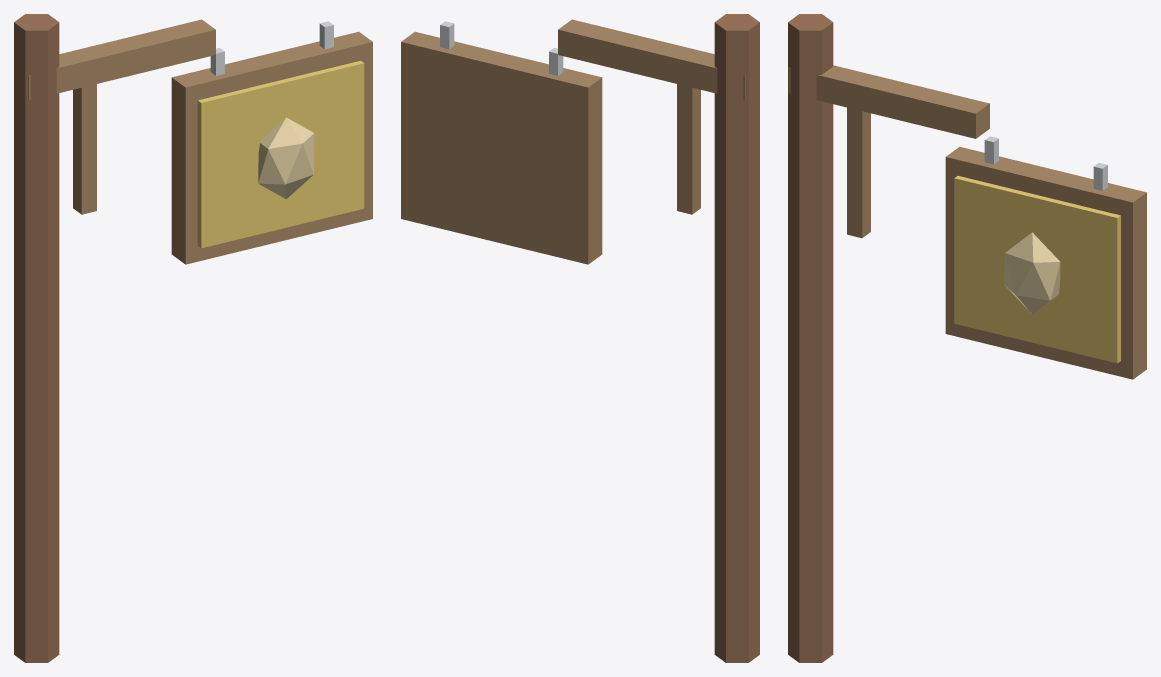
File: inn_sign.glb
3 renders of one model, left to right at view 1: azimuth 30°, elevation 25°; view 2: azimuth 150°, elevation 25°; view 3: azimuth 330°, elevation 25°, orthographic.
Parts seen in each view (by area): view 1: post.001, rim, board, arm.001, mug, brace; view 2: board, post.001, arm.001, brace; view 3: post.001, rim, board, arm.001, mug, brace.
Boxes of the visible parts, x1,y1,x2,y2 form: post.001: [14, 14, 59, 662]; rim: [197, 60, 364, 248]; board: [171, 31, 372, 264]; arm.001: [28, 19, 215, 100]; mug: [258, 117, 314, 199]; brace: [73, 84, 96, 214]; board: [401, 31, 602, 264]; post.001: [714, 14, 759, 662]; arm.001: [558, 19, 745, 100]; brace: [677, 84, 700, 214]; post.001: [788, 14, 833, 662]; rim: [954, 176, 1120, 363]; board: [945, 146, 1146, 379]; arm.001: [788, 65, 989, 138]; mug: [1004, 232, 1060, 314]; brace: [847, 107, 870, 237].
Size of the model in its own units: 1.15 by 2 by 0.1892.
